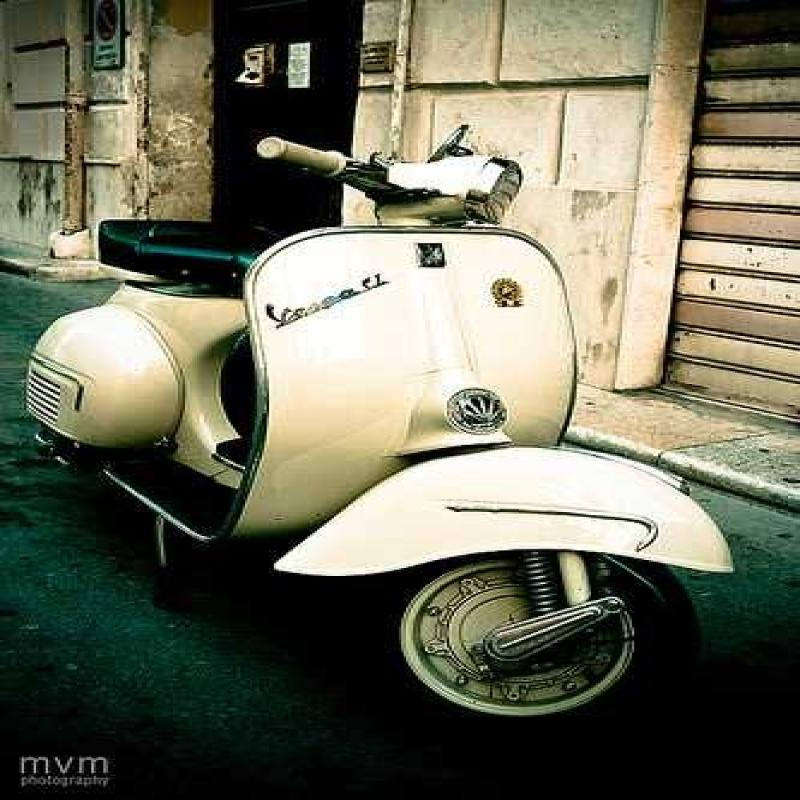bike: (27, 40, 737, 710)
